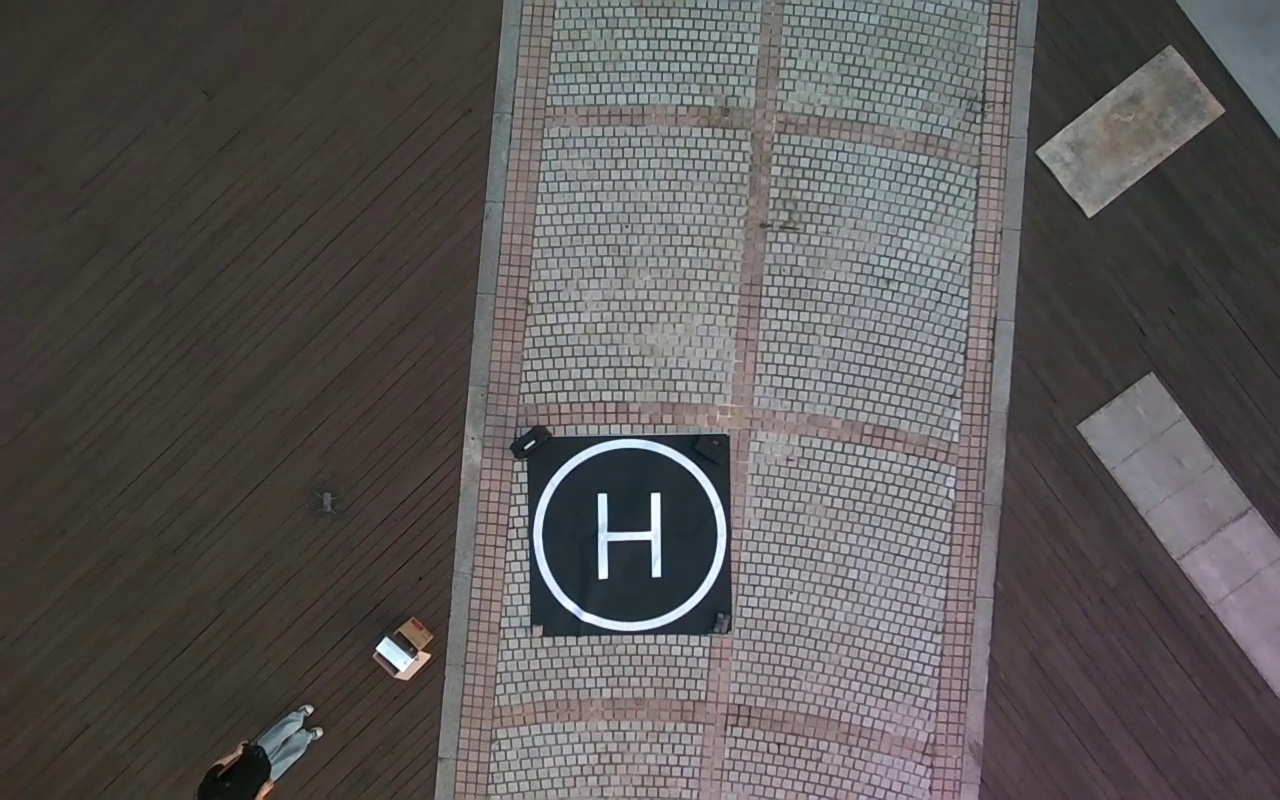H: (596, 490, 661, 578)
heliport: (534, 437, 728, 632)
